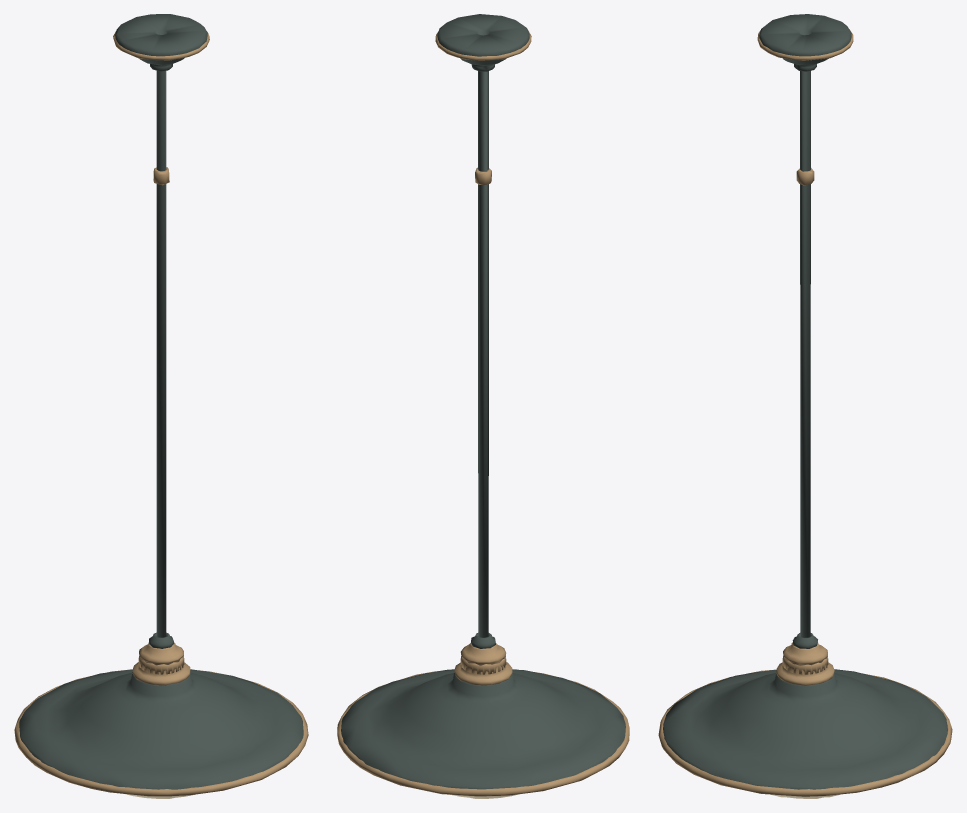
File: HallPendant_LOD2.fbx
3 renders of one model, left to right at view 1: azimuth 30°, elevation 25°; view 2: azimuth 150°, elevation 25°; view 3: azimuth 270°, elevation 25°, orthographic.
Visible parts, largest first — view 1: HallPendant_LOD2; view 2: HallPendant_LOD2; view 3: HallPendant_LOD2.
Boxes of the visible parts, x1,y1,x2,y2 form: HallPendant_LOD2: (14,14,308,798); HallPendant_LOD2: (337,14,629,798); HallPendant_LOD2: (658,14,952,798).
Bounding box in the file's own units: 72.12 × 205 × 72.56.
